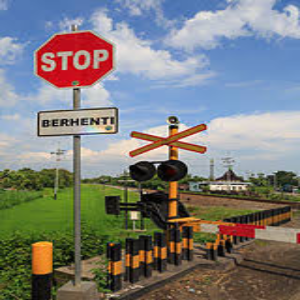STOP_SIGN: (34, 30, 115, 88)
